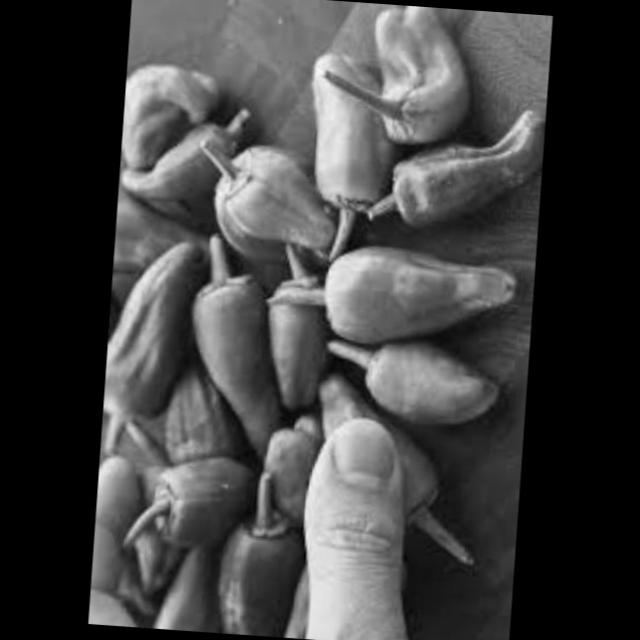ot cay: (259, 232, 536, 378), (310, 383, 480, 567), (358, 92, 546, 255), (305, 0, 482, 154), (288, 45, 410, 266), (185, 133, 353, 276), (307, 324, 517, 436), (175, 233, 283, 449), (99, 225, 197, 452), (104, 442, 250, 580), (116, 98, 246, 219), (206, 490, 306, 639), (118, 60, 220, 183), (241, 408, 325, 536), (148, 367, 233, 484), (130, 535, 213, 633)
